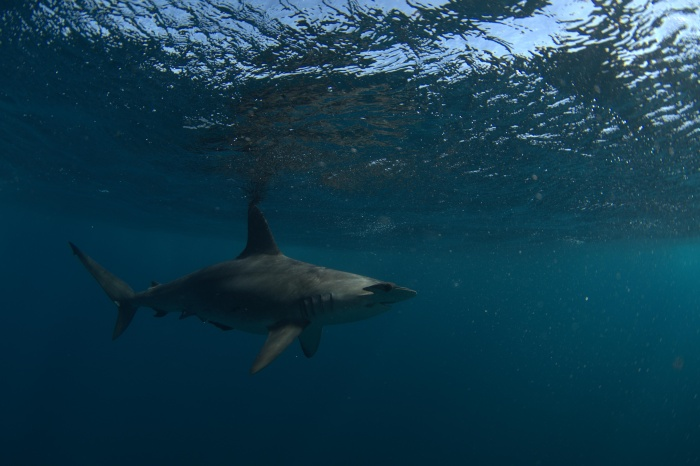Hammer: (56, 186, 444, 406)
